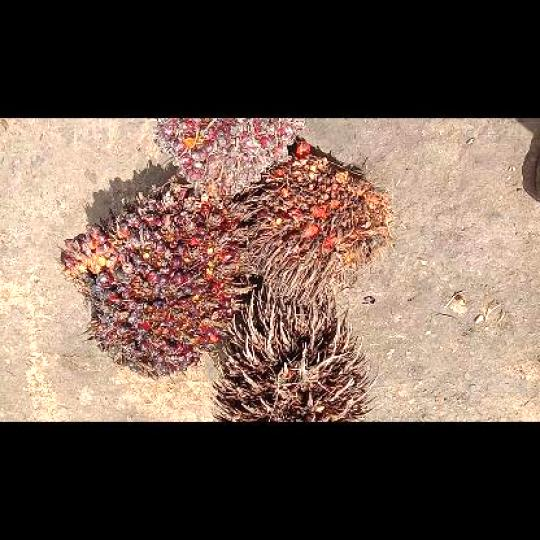kurang masak: (149, 118, 308, 196)
masak: (54, 173, 254, 380)
terlalu masak: (239, 138, 394, 304)
